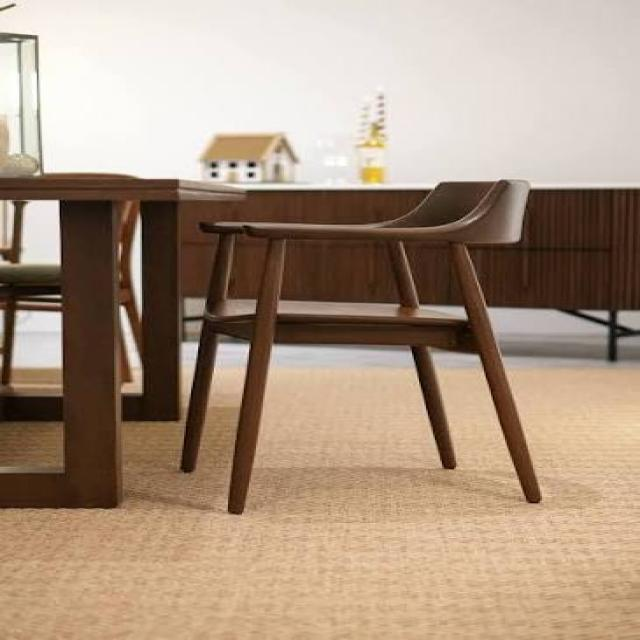Chair: (165, 170, 567, 526)
